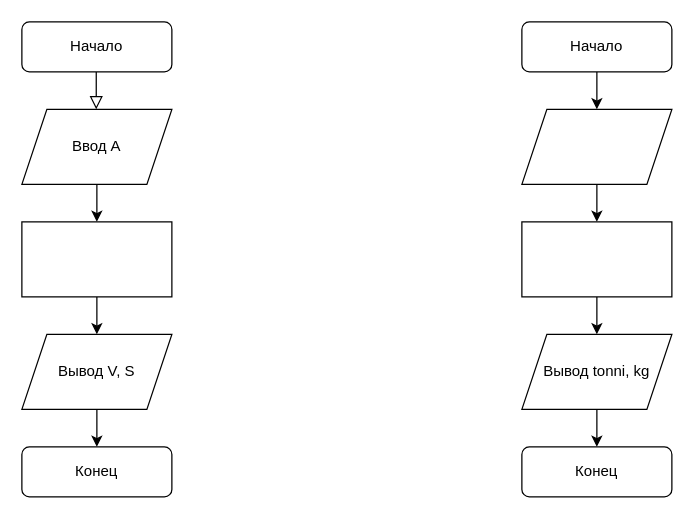
Image size: 694x519. Some labels were removed from this diagram. Here are the shapes that lost their labels. From the top down, the centre of each, then its label:
At (x=596, y=146): "Ввод M".
At (x=96, y=259): "V = A^3 S = 6 * A^2".
At (x=596, y=259): "tonni = M / 1000 kg = M % 1000".
